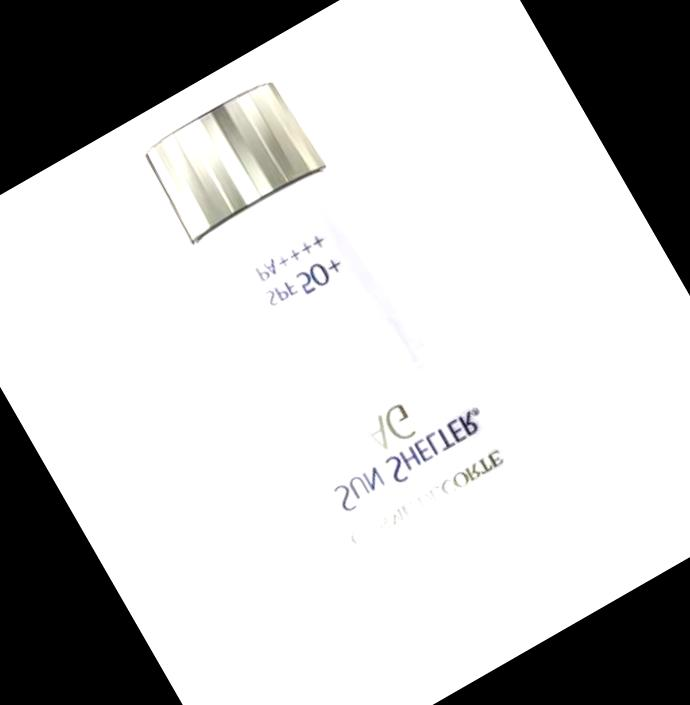cosmetic: (110, 56, 587, 666)
